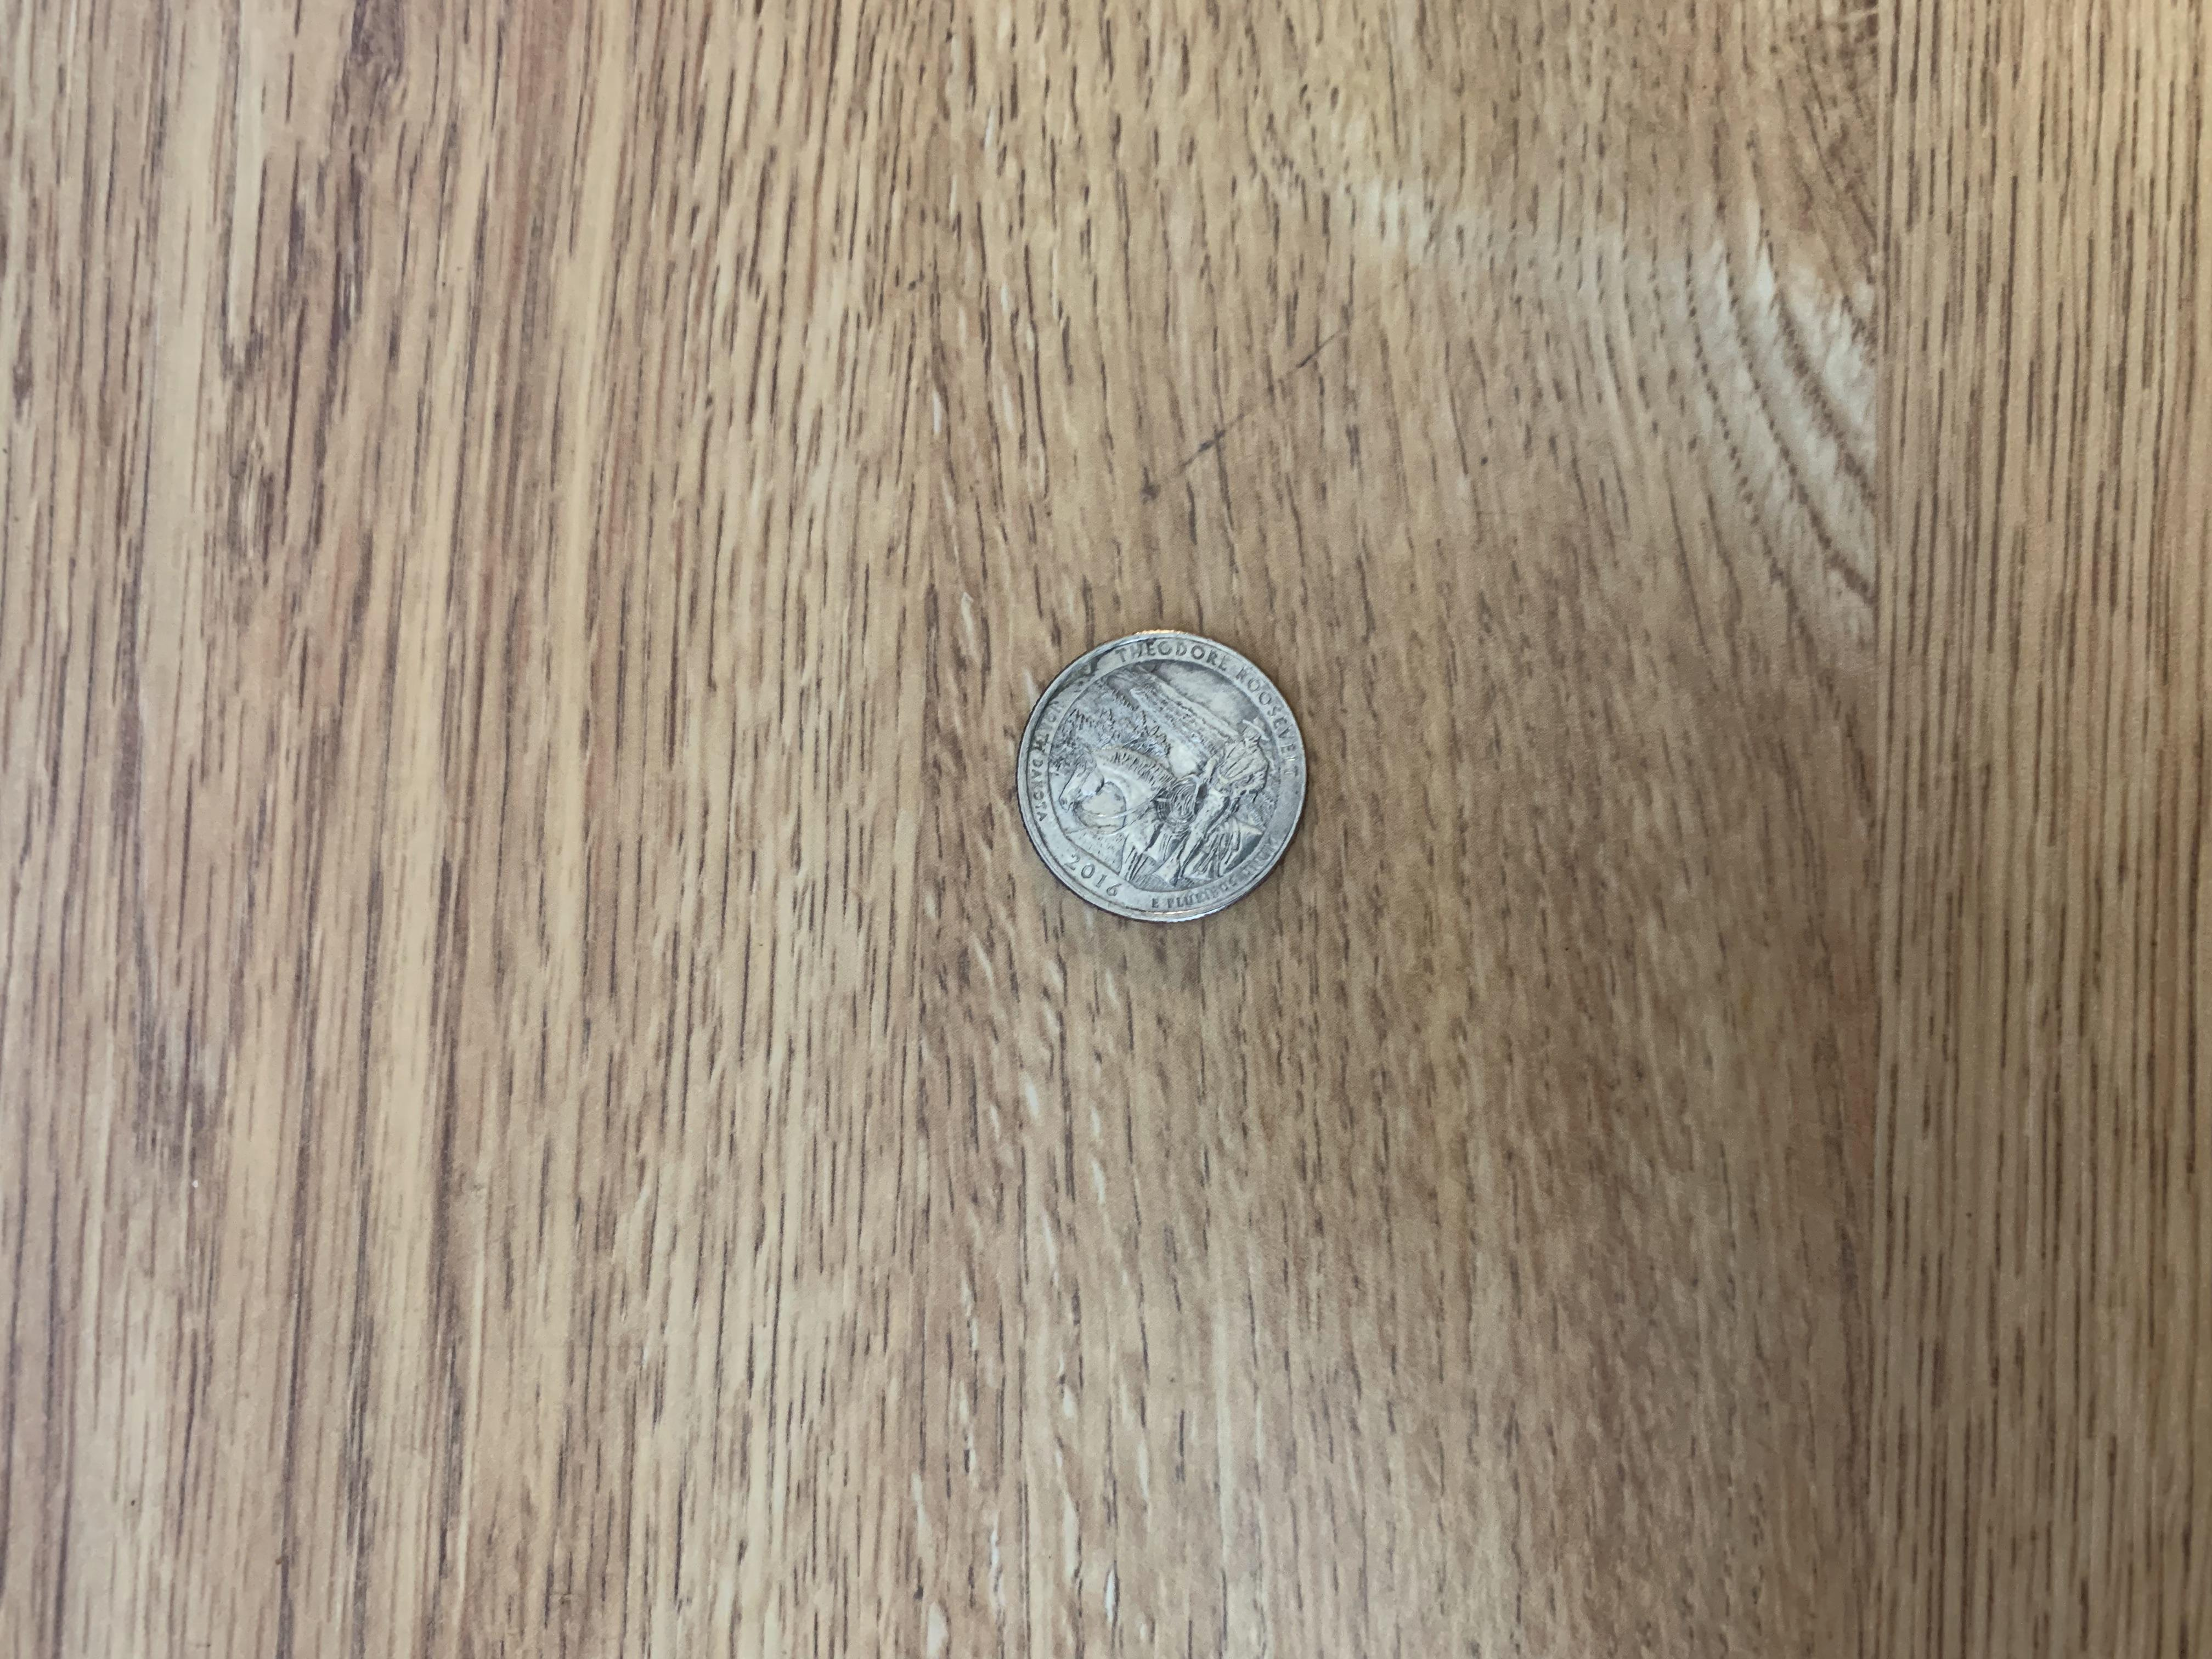Quarter: (1012, 619, 1324, 938)
